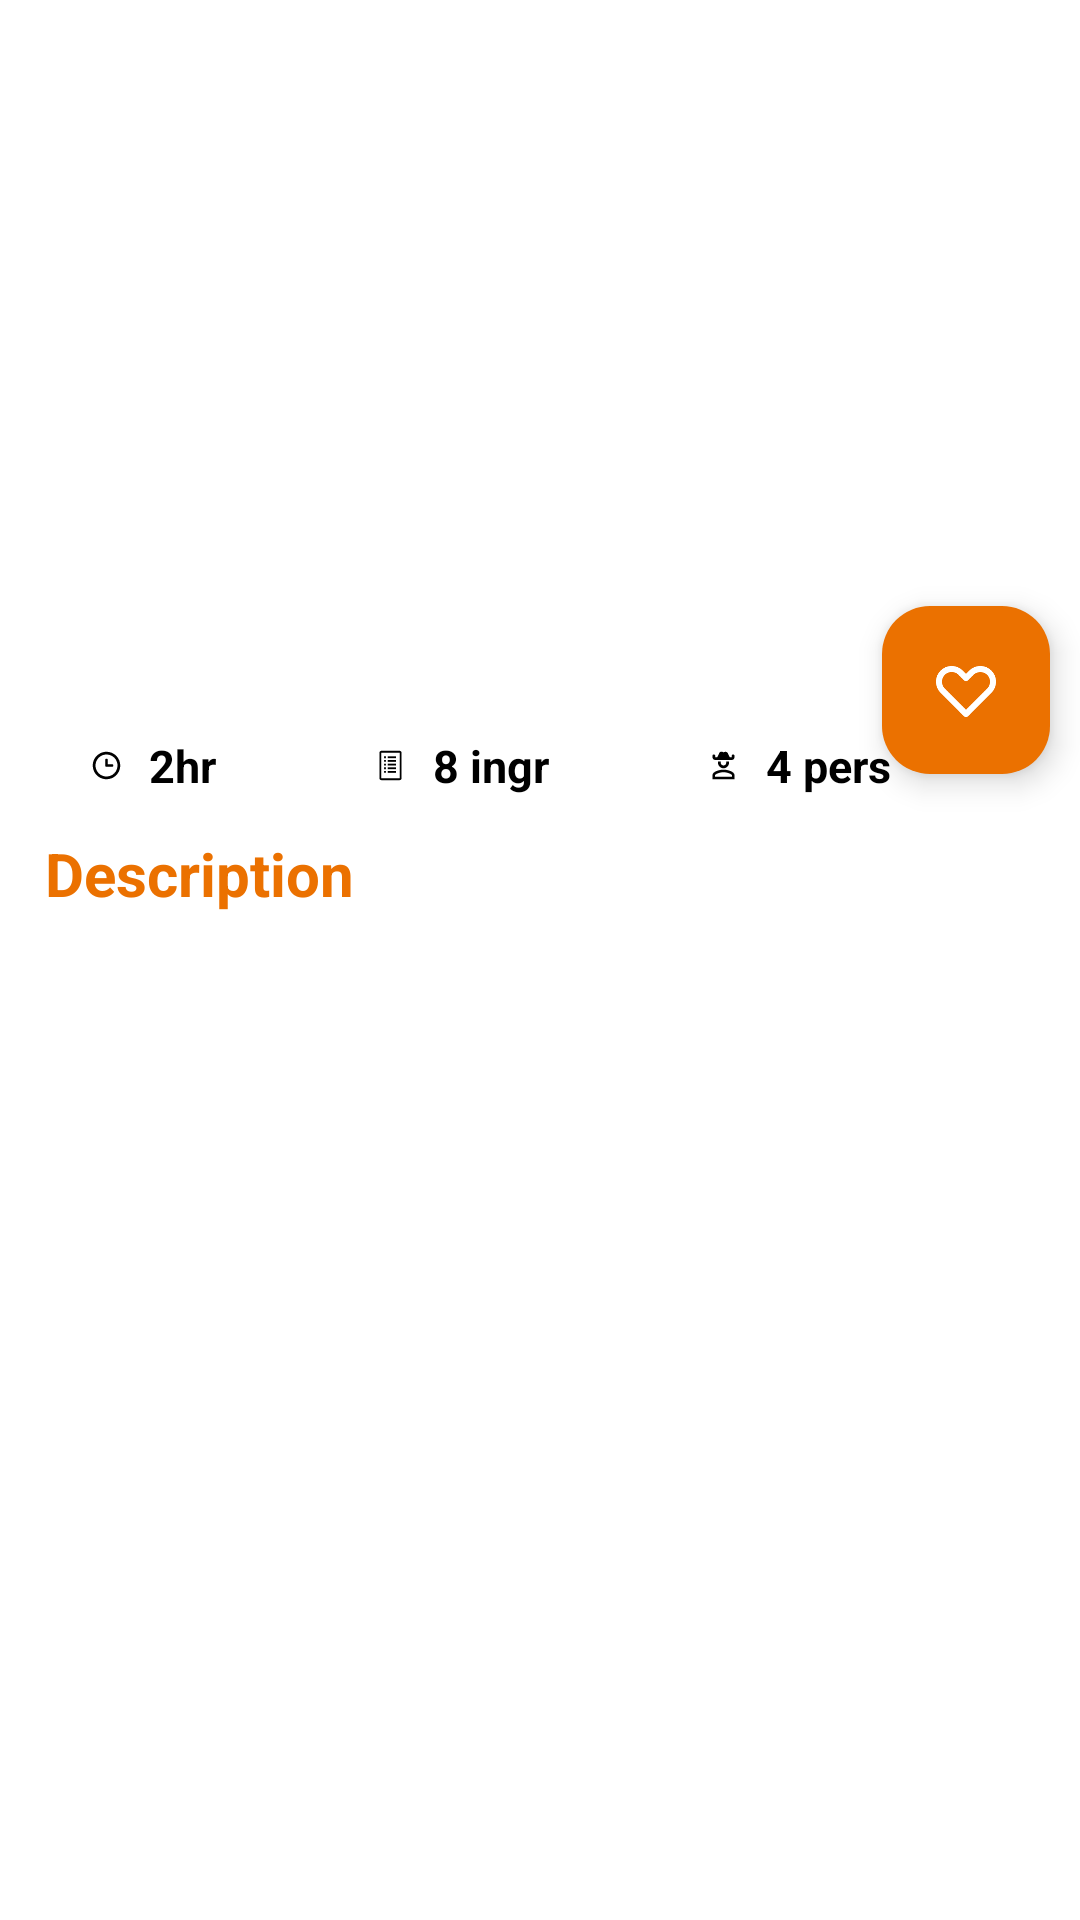

Where to tap for icons on this 1080×1920 app screen, as [x,y]:
favorite: [966,690]
